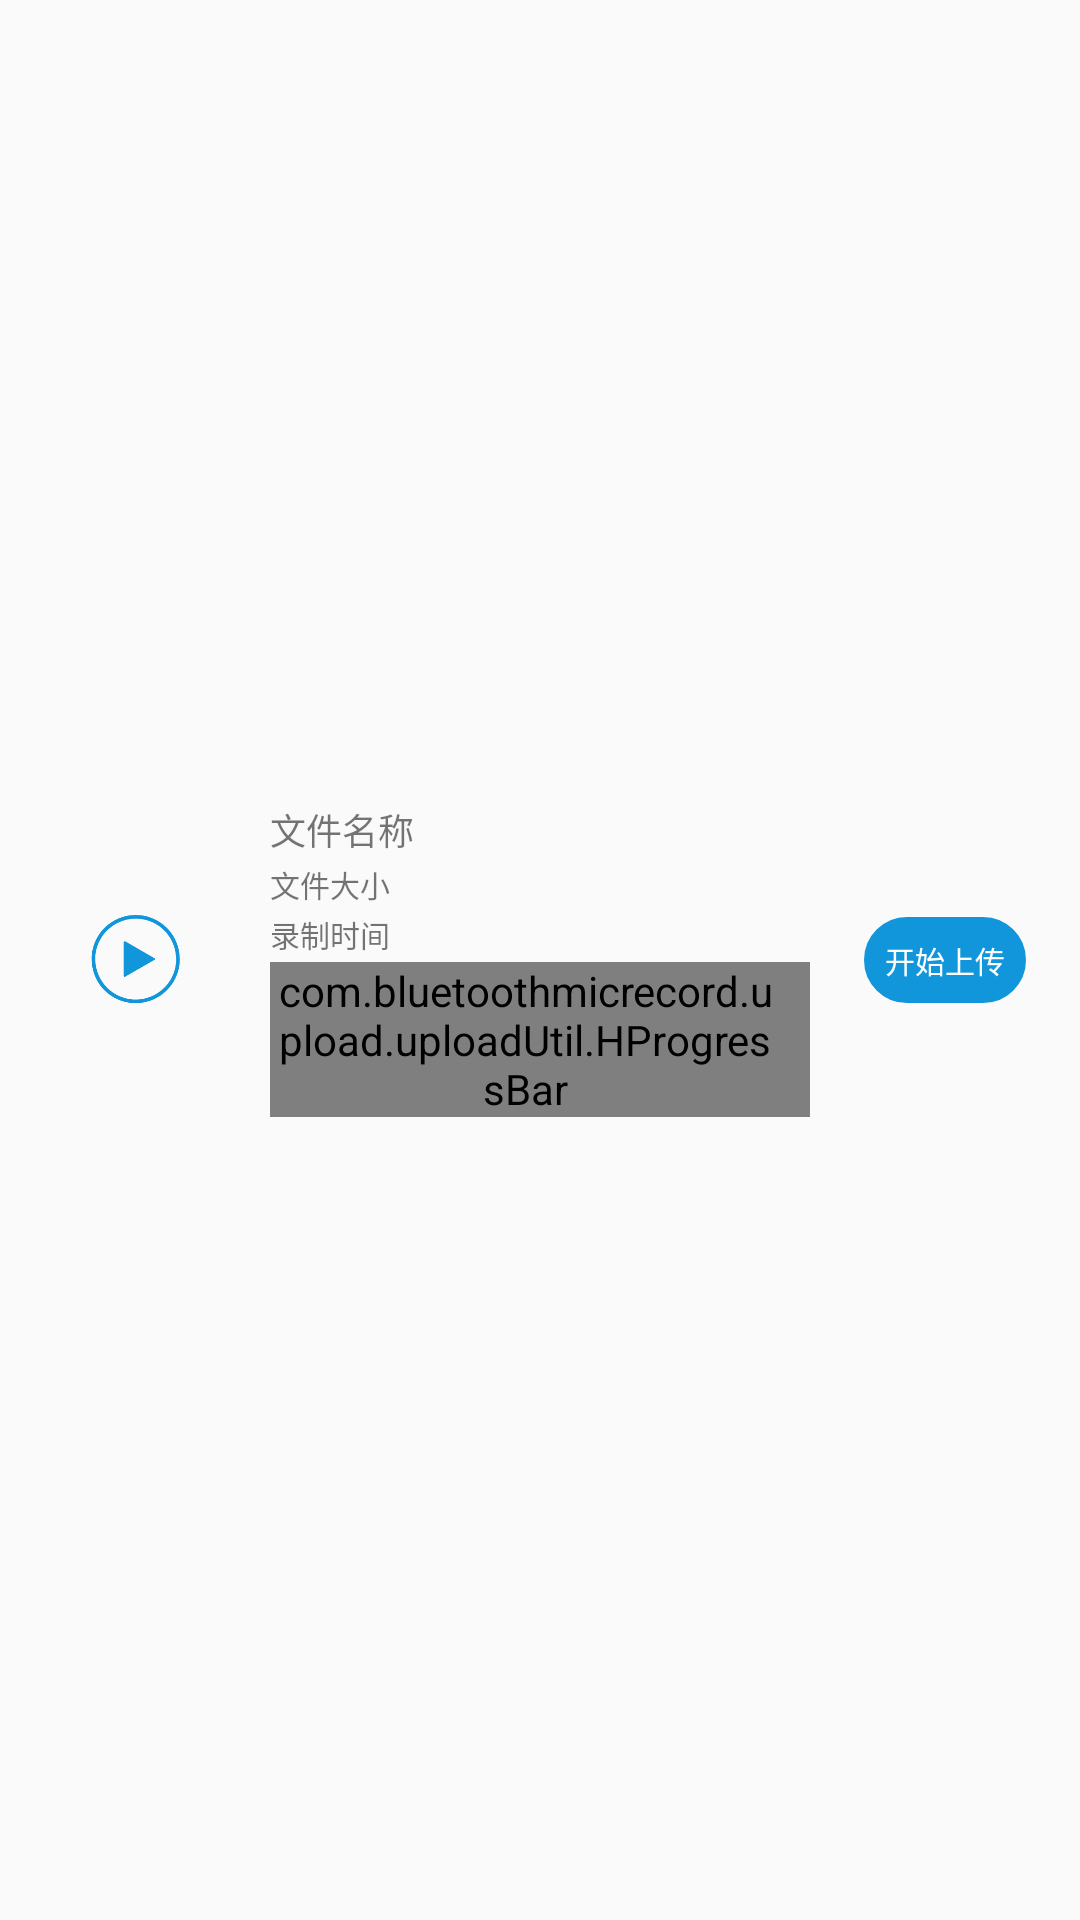

Icons on this 1080 x 1920 Android screen, each with its box as (x1, y1, x2, y2):
start: (91, 915, 180, 1003)
